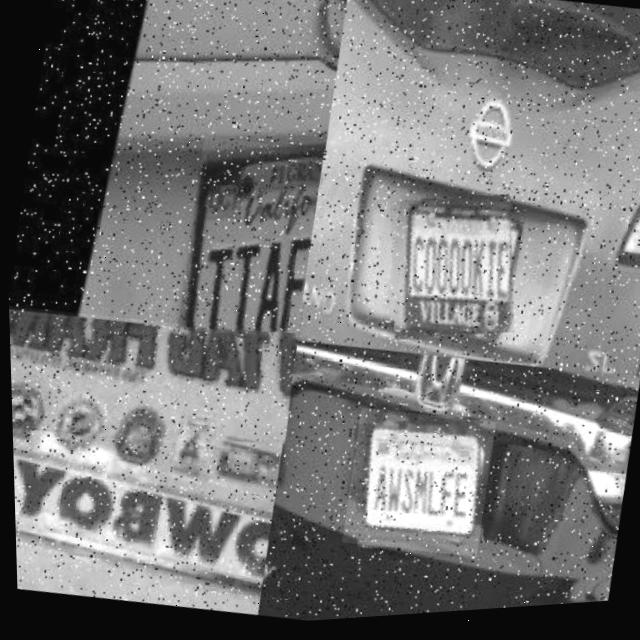LicensePlate: (7, 290, 299, 472), (335, 406, 496, 570), (179, 154, 319, 341), (391, 207, 508, 340)
